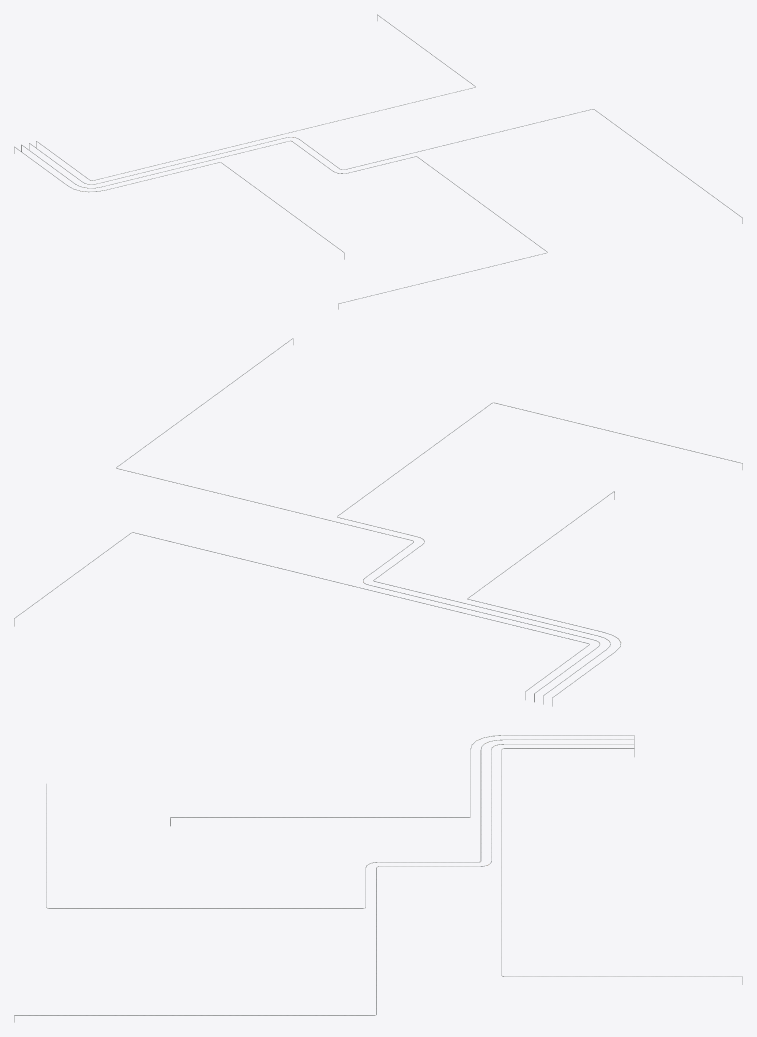
The model's file is ElectricalWiring.fbx.
3 views of the same model, one above another, from view 1: azimuth 30°, elevation 25°; view 2: azimuth 150°, elevation 25°; view 3: azimuth 270°, elevation 25° (orthographic). The views are drawn at different scales.
Parts seen in each view (by area): view 1: Cylinder.001; view 2: Cylinder.001; view 3: Cylinder.001.
Part boxes in pixels (x1,y1,x2,y2): Cylinder.001: [14, 14, 742, 309]; Cylinder.001: [14, 338, 742, 706]; Cylinder.001: [14, 735, 742, 1022].
Size of the model in its own units: 5683 by 84.56 by 6242.
1 material, 1 textured.
